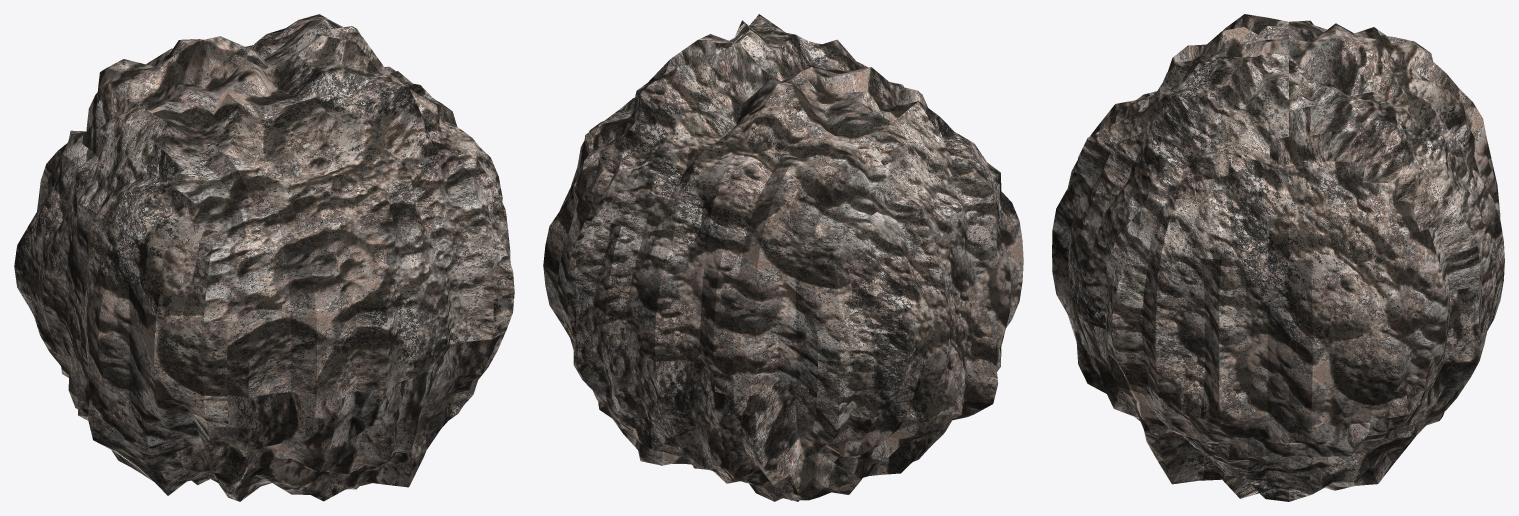
The model's file is asteroid163.obj.
3 renders of one model, left to right at view 1: azimuth 30°, elevation 25°; view 2: azimuth 150°, elevation 25°; view 3: azimuth 270°, elevation 25°, orthographic. The views are drawn at different scales.
Parts seen in each view (by area): view 1: Cube_Cube.002; view 2: Cube_Cube.002; view 3: Cube_Cube.002.
Boxes of the visible parts, x1=… form: Cube_Cube.002: x1=14, y1=14, x2=514, y2=501; Cube_Cube.002: x1=543, y1=14, x2=1023, y2=501; Cube_Cube.002: x1=1052, y1=14, x2=1504, y2=501.
Bounding box in the file's own units: 1.78 × 1.87 × 1.75.
